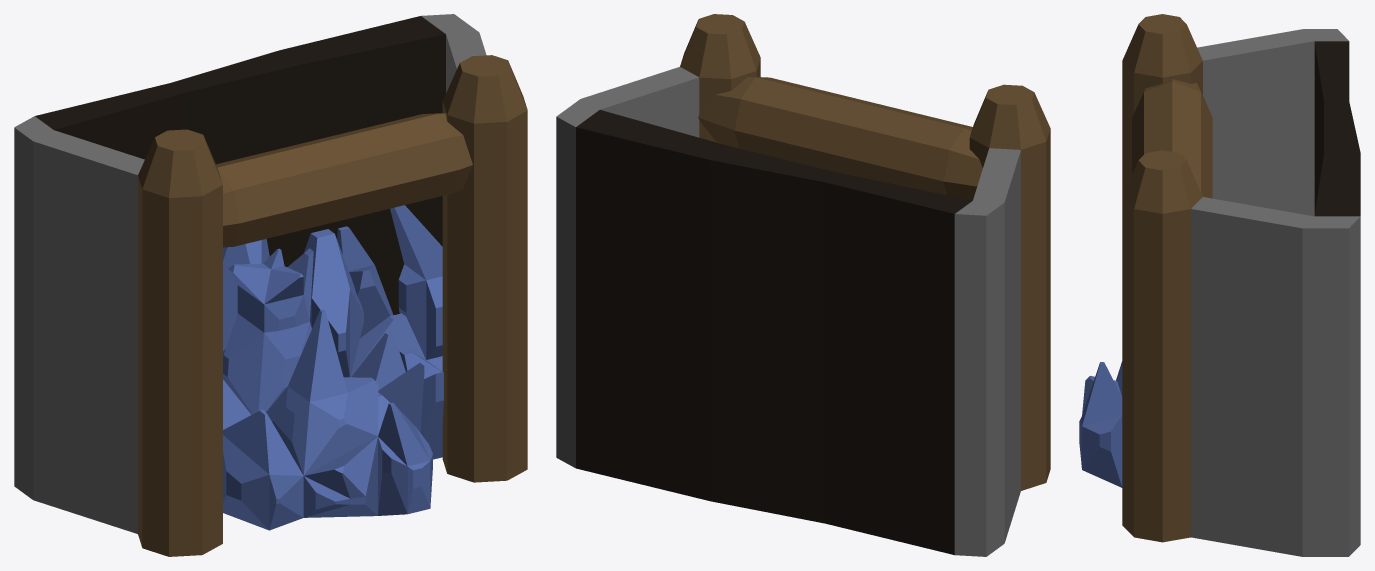
File: Mine(Blue).fbx
3 renders of one model, left to right at view 1: azimuth 30°, elevation 25°; view 2: azimuth 150°, elevation 25°; view 3: azimuth 270°, elevation 25°, orthographic. The views are drawn at different scales.
Parts seen in each view (by area): view 1: BlueMine; view 2: BlueMine; view 3: BlueMine.
Part boxes in pixels (x1,y1,x2,y2): BlueMine: [14, 14, 527, 556]; BlueMine: [556, 14, 1050, 556]; BlueMine: [1079, 14, 1360, 556].
Bounding box in the file's own units: 1171 × 1009 × 699.
